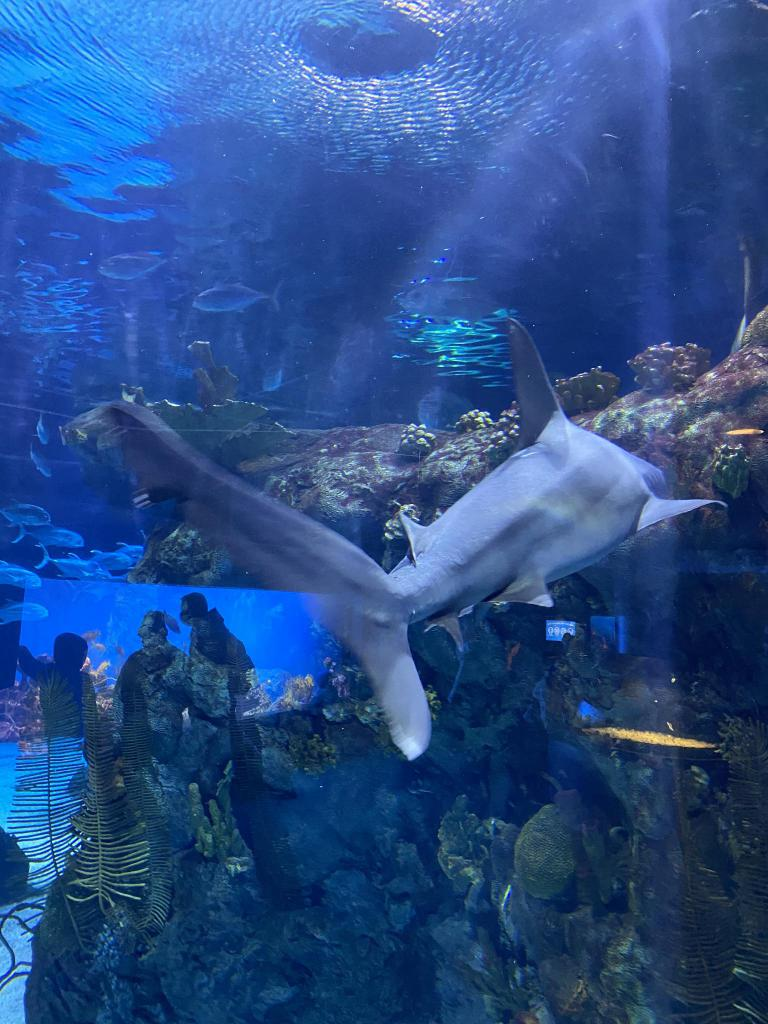fish: (192, 281, 282, 313), (36, 543, 96, 581), (98, 252, 176, 278), (11, 522, 82, 550), (0, 498, 51, 532), (0, 597, 49, 628), (100, 540, 152, 562), (86, 550, 132, 572), (0, 563, 42, 587), (29, 441, 51, 475), (33, 413, 47, 443)
shark: (106, 315, 726, 757)
